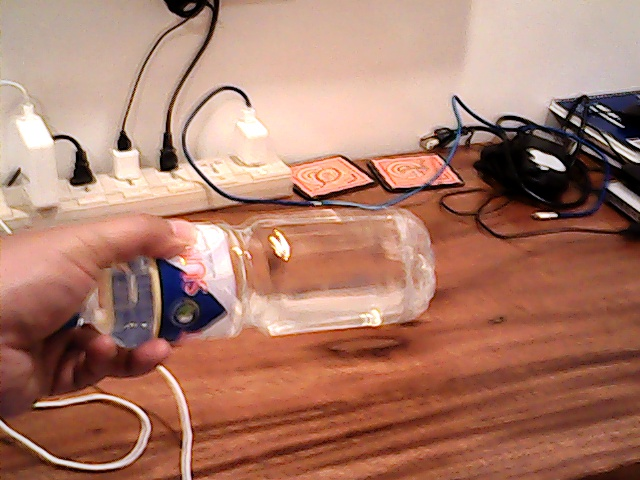Summit Water: (81, 207, 428, 363)
